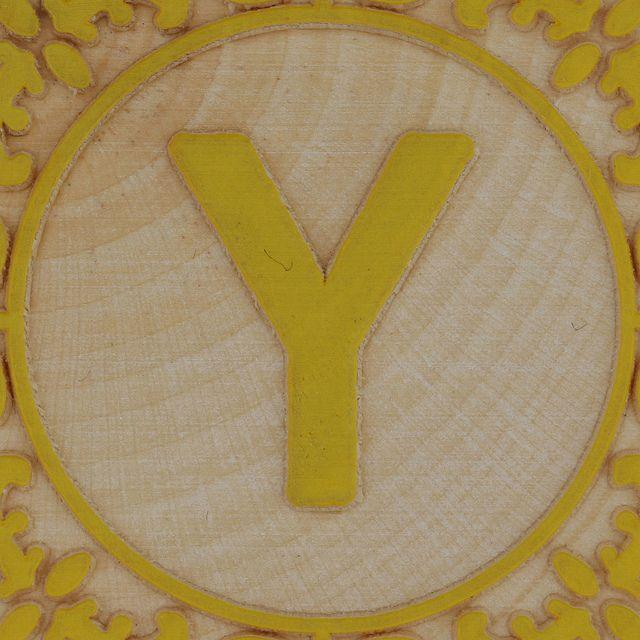Y: (151, 92, 481, 539)
